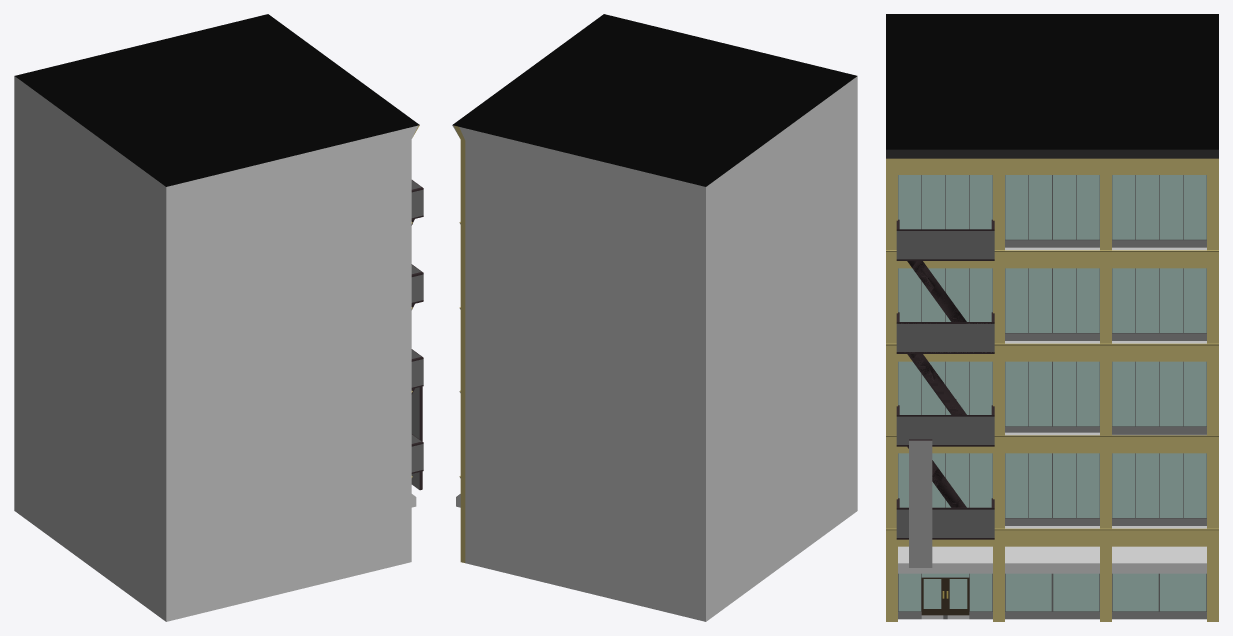
The model's file is bldg h.fbx.
3 renders of one model, left to right at view 1: azimuth 30°, elevation 25°; view 2: azimuth 150°, elevation 25°; view 3: azimuth 270°, elevation 25°, orthographic. The views are drawn at different scales.
Parts seen in each view (by area): view 1: fire escape; view 2: fire escape; view 3: fire escape.
Part boxes in pixels (x1,y1,x2,y2): fire escape: (14,14,423,621); fire escape: (452,14,857,621); fire escape: (886,14,1218,621).
Bounding box in the file's own units: 1420 × 2213 × 1400.
